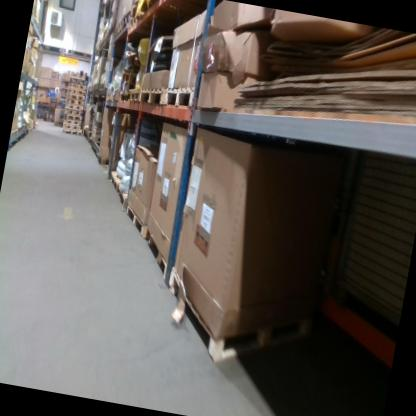pallet: (157, 268, 284, 370), (137, 226, 179, 282), (162, 80, 199, 113), (122, 202, 154, 239), (138, 82, 168, 109), (112, 182, 134, 213), (106, 168, 125, 190), (119, 68, 141, 86), (127, 7, 143, 30), (125, 84, 143, 103), (121, 11, 133, 32), (111, 22, 121, 45), (9, 124, 19, 142), (32, 13, 42, 31), (103, 90, 114, 105), (110, 89, 120, 104), (117, 16, 124, 37), (90, 133, 102, 144), (21, 119, 30, 133)
stillage: (323, 149, 416, 335)
